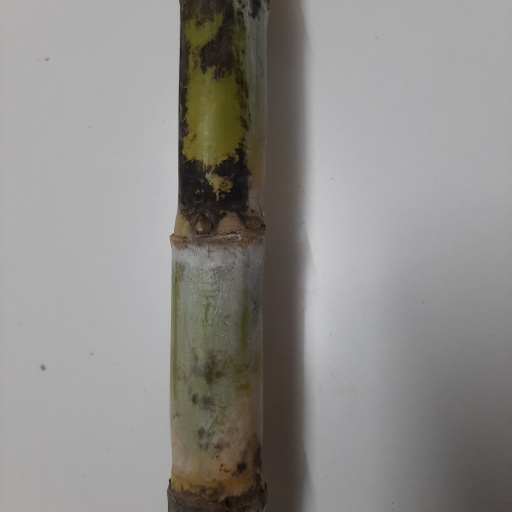Bud: (191, 211, 212, 237)
